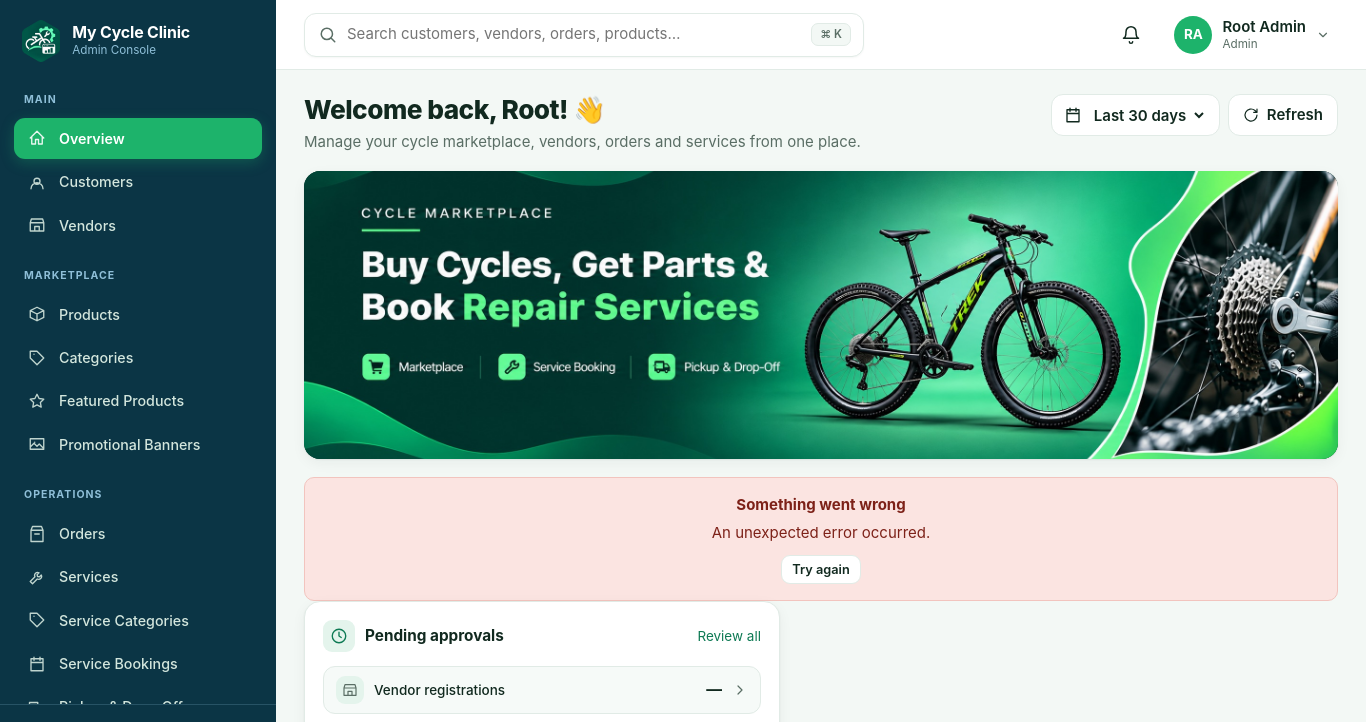
dashboard › an API failure shows an error with Try again; recovery loads the data
expect the text "Something went wrong" is shown: met, box [736,494,906,514]
Click the button "Try again". click: (821, 569)
box: [781,554,861,584]
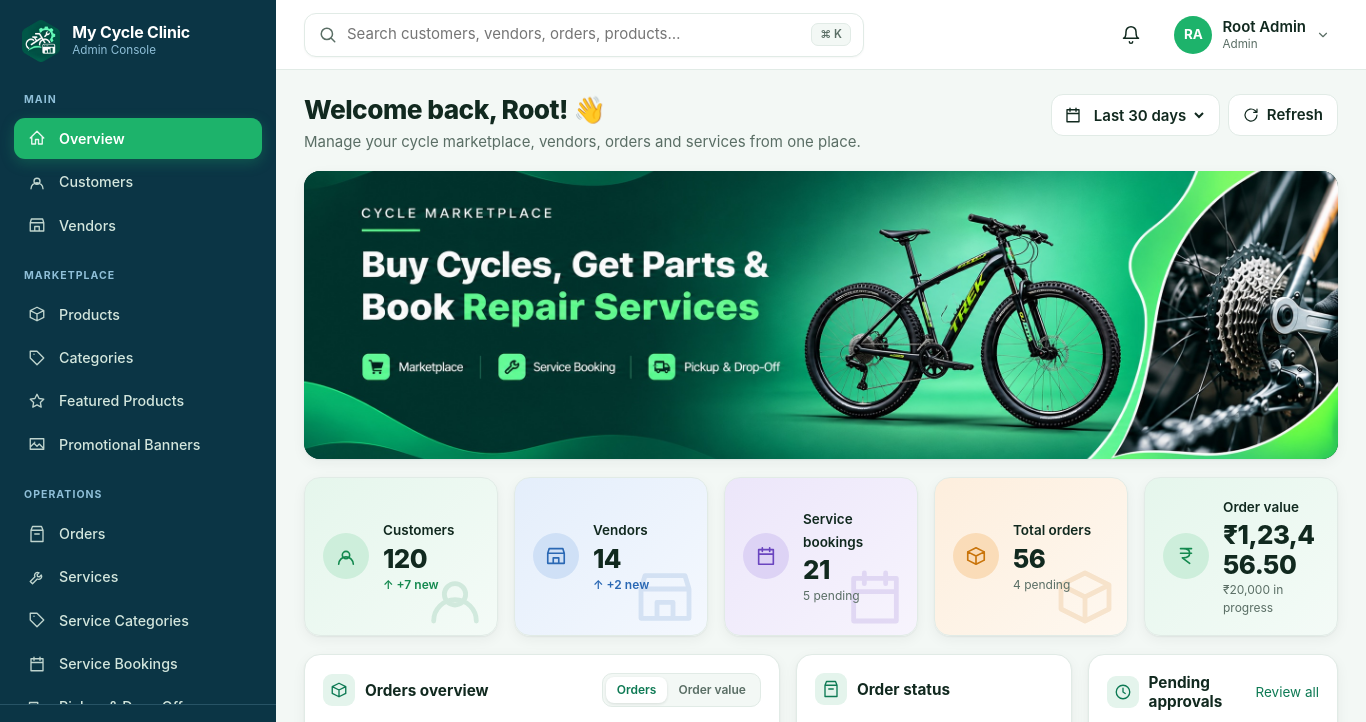
expect the text "Total orders" is shown: met, box [1013,522,1091,538]
